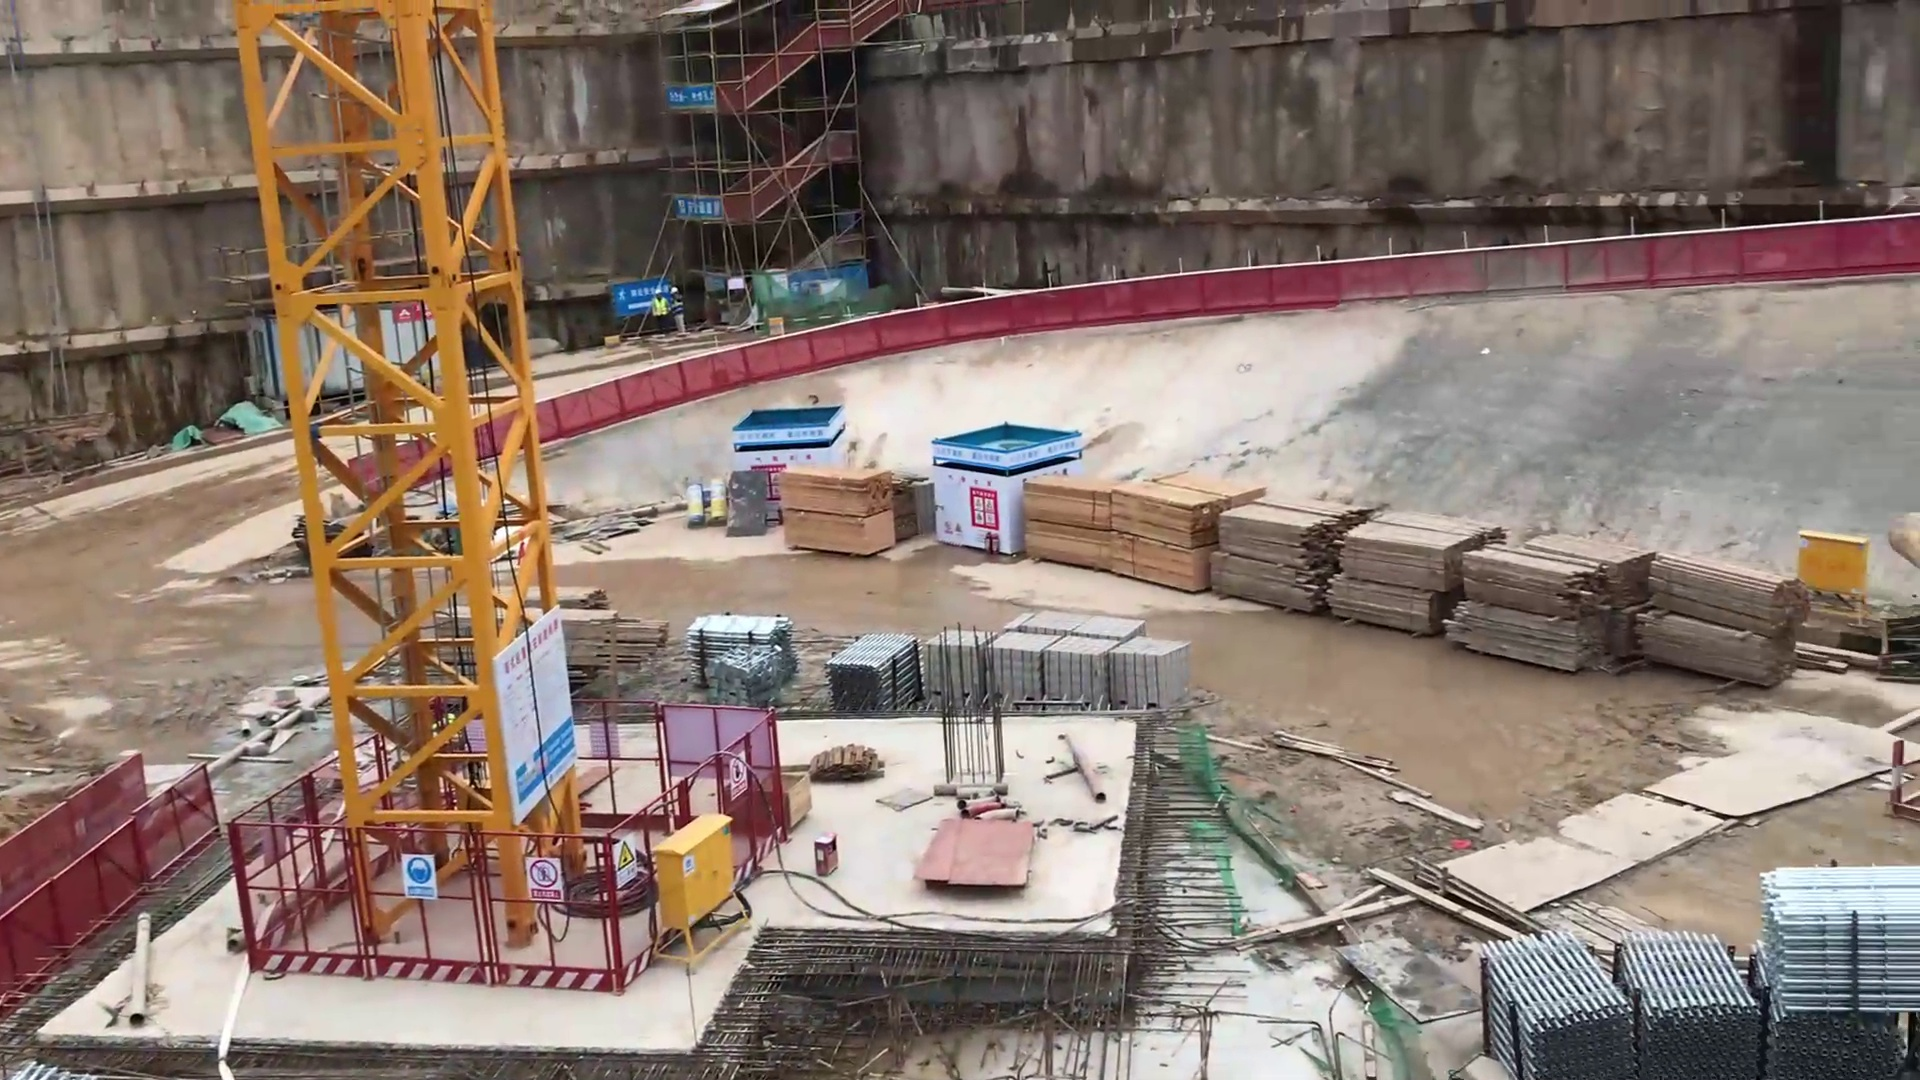board: (904, 808, 1038, 902)
brick: (1109, 635, 1203, 719), (1042, 633, 1123, 724), (918, 624, 996, 713), (1008, 604, 1157, 646), (988, 629, 1062, 712)
ebox: (660, 811, 754, 971), (1789, 513, 1880, 639)
fence: (29, 773, 220, 959), (1692, 217, 1910, 295)
person: (668, 285, 688, 336), (653, 286, 669, 338)
scaffold: (1748, 860, 1920, 1022), (1466, 915, 1634, 1080), (1612, 926, 1767, 1080), (684, 605, 807, 702), (819, 623, 928, 719)
slogan: (484, 600, 595, 827), (962, 482, 1011, 544), (528, 848, 570, 919), (397, 850, 452, 905), (607, 837, 648, 900), (725, 749, 754, 798)
wood: (1025, 464, 1243, 597), (1456, 533, 1641, 670), (1641, 544, 1804, 688), (1332, 507, 1466, 641), (775, 463, 896, 571), (1220, 496, 1326, 616), (558, 583, 676, 673)
